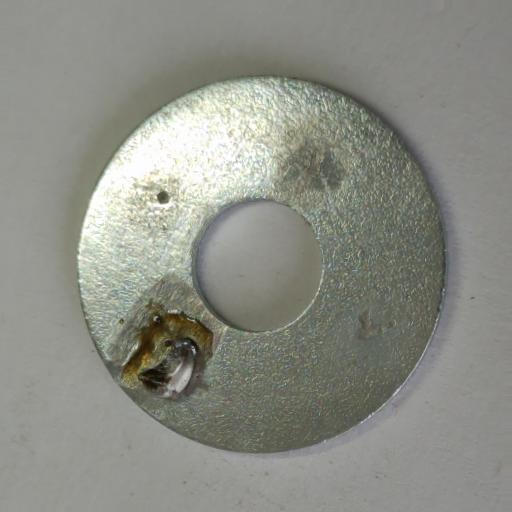circular_cavity: (156, 191, 170, 203)
excess_material: (118, 297, 215, 403)
